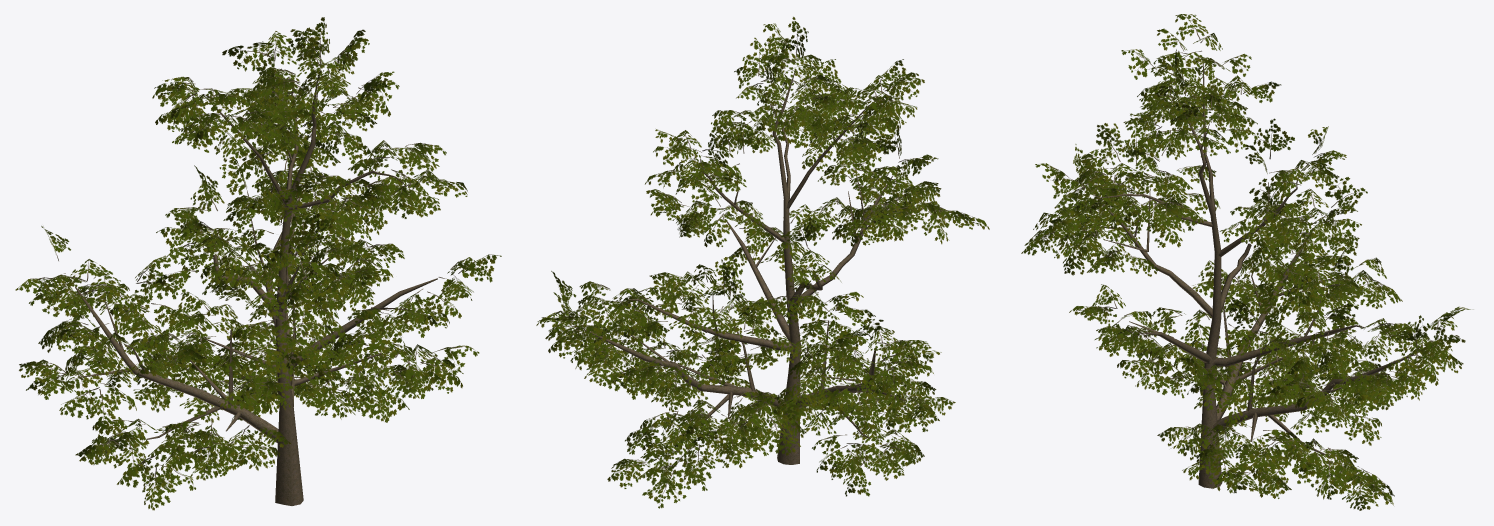
The model's file is tree_1.glb.
3 views of the same model, side by side, from view 1: azimuth 30°, elevation 25°; view 2: azimuth 150°, elevation 25°; view 3: azimuth 270°, elevation 25° (orthographic). The views are drawn at different scales.
Parts seen in each view (by area): view 1: tree_1; view 2: tree_1; view 3: tree_1.
Boxes of the visible parts, bbox=[...] form: tree_1: bbox=[15, 17, 501, 510]; tree_1: bbox=[536, 16, 989, 508]; tree_1: bbox=[1021, 14, 1473, 510].
Bounding box in the file's own units: 18.69 × 20.78 × 19.56.
2 materials, 2 textured.
